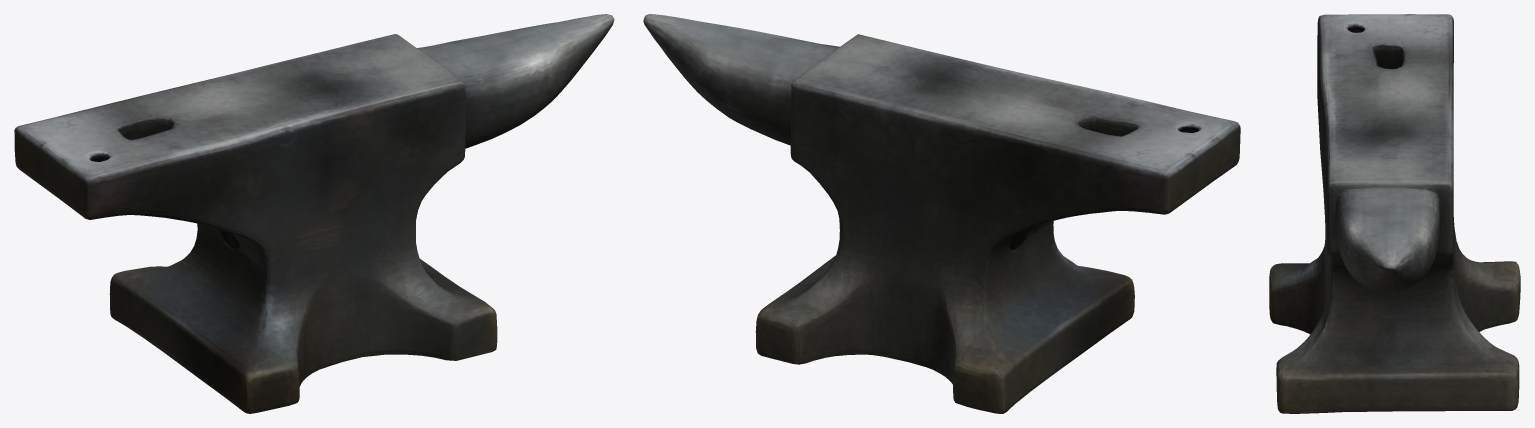
The model's file is anvil.glb.
The picture shows the model from 3 angles, left to right: view 1: azimuth 30°, elevation 25°; view 2: azimuth 150°, elevation 25°; view 3: azimuth 270°, elevation 25°; orthographic projection. The views are drawn at different scales.
Parts seen in each view (by area): view 1: world; view 2: world; view 3: world.
Part boxes in pixels (x1,y1,x2,y2): world: (14,14,614,413); world: (643,14,1240,413); world: (1269,14,1520,413).
Size of the model in its own units: 1 by 0.4257 by 0.4227.
Materials: 1 (1 with a texture image).
